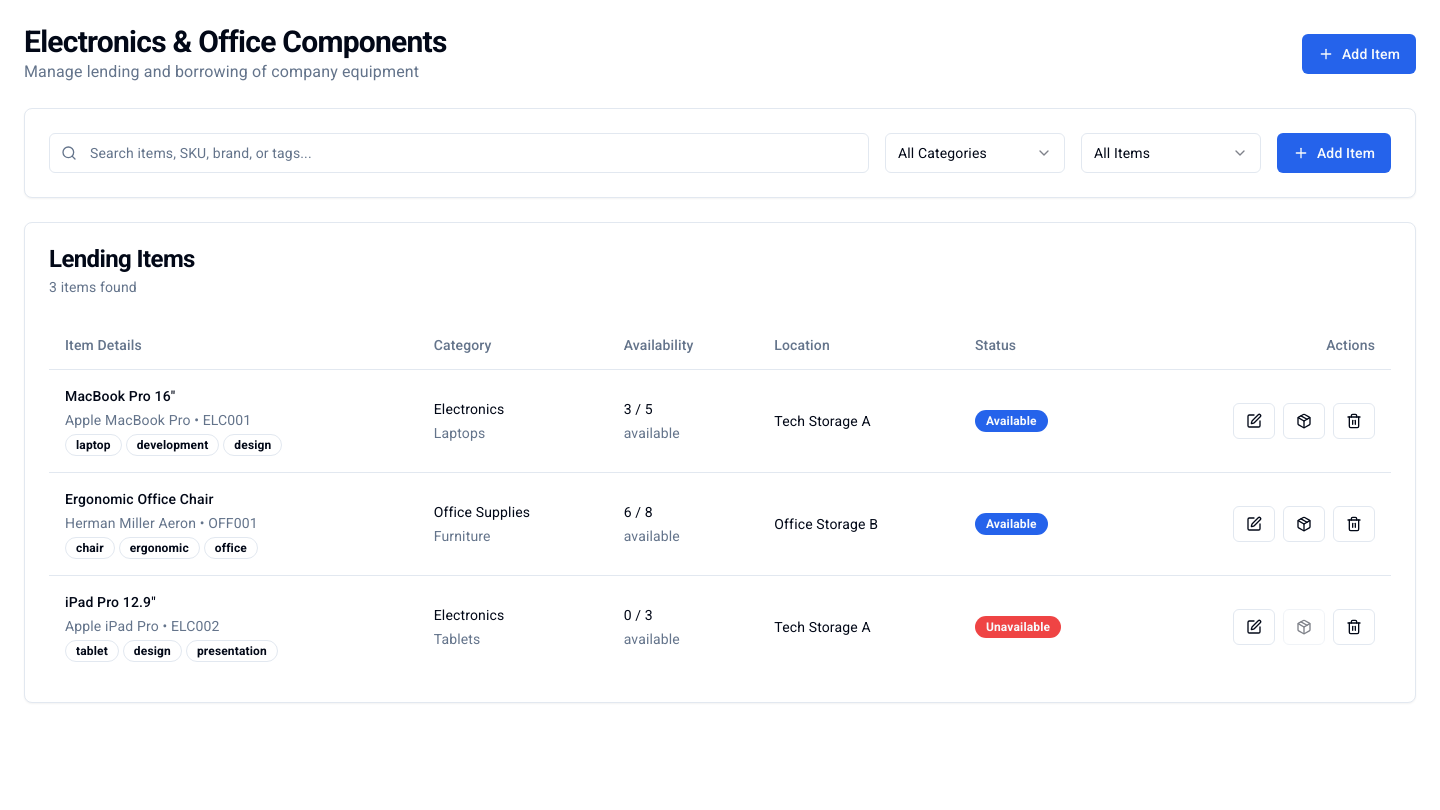
Test: LendingSystemPage › deletes item successfully
Click the button named "Delete" in the row of "Apple MacBook Pro •" at [1354, 420], box [1333,402,1375,438]
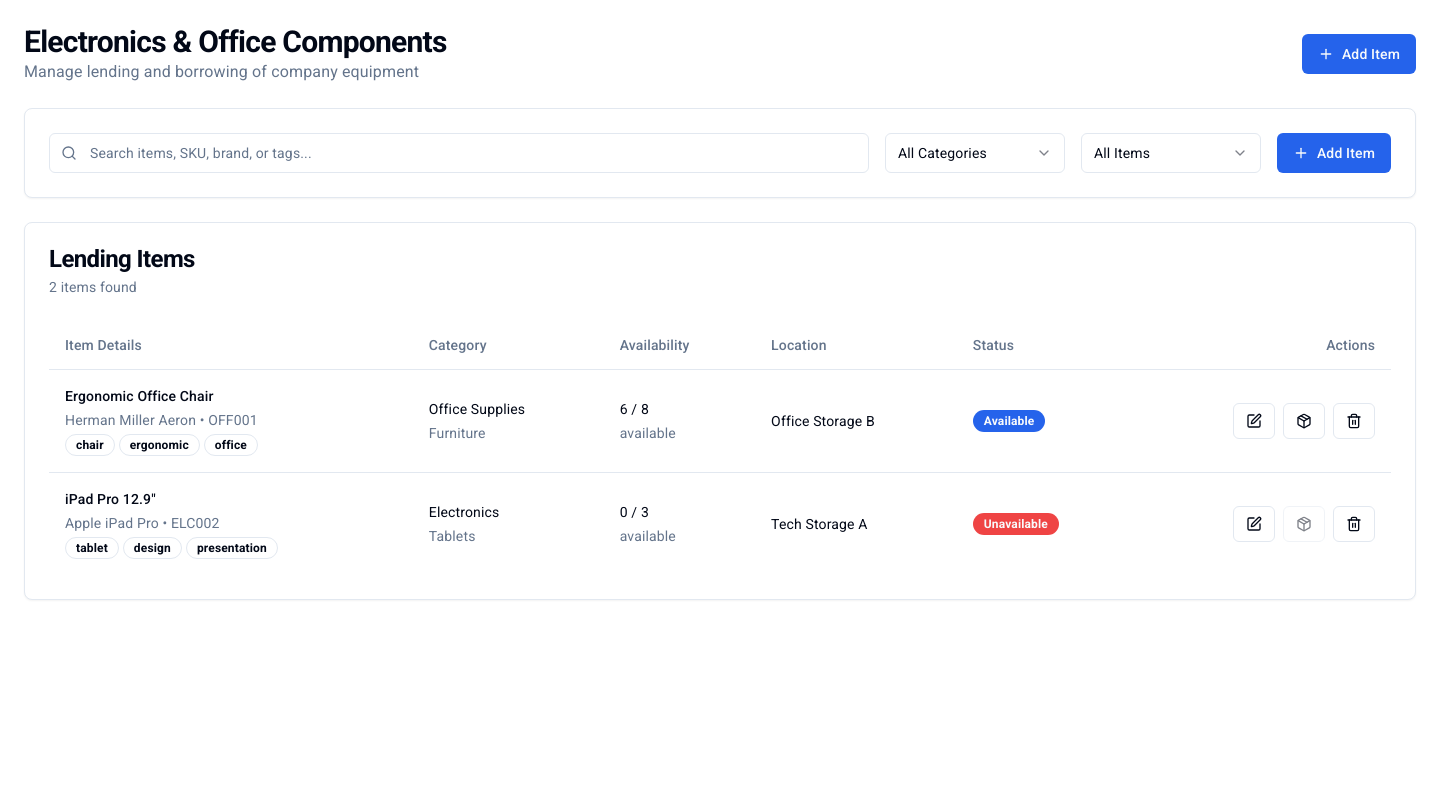
Expected: the number of rows is 3, [49,321,1391,369]; [49,369,1391,472]; [49,472,1391,574]
